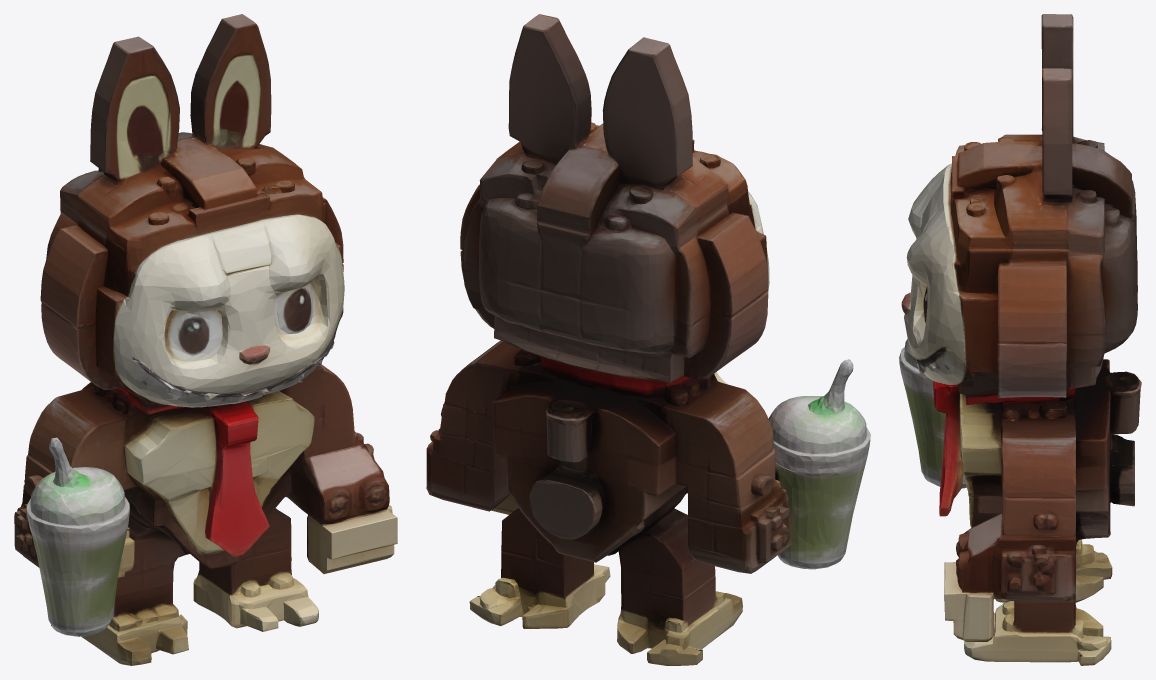
3 renders of one model, left to right at view 1: azimuth 30°, elevation 25°; view 2: azimuth 150°, elevation 25°; view 3: azimuth 270°, elevation 25°, orthographic. The views are drawn at different scales.
Visible parts, largest first — view 1: world; view 2: world; view 3: world.
Part boxes in pixels (<box>): world: <box>14,14,397,665</box>; world: <box>426,14,870,665</box>; world: <box>899,14,1141,665</box>.
Bounding box in the file's own units: 0.6757 × 0.9923 × 0.3796.
1 material, 1 textured.
